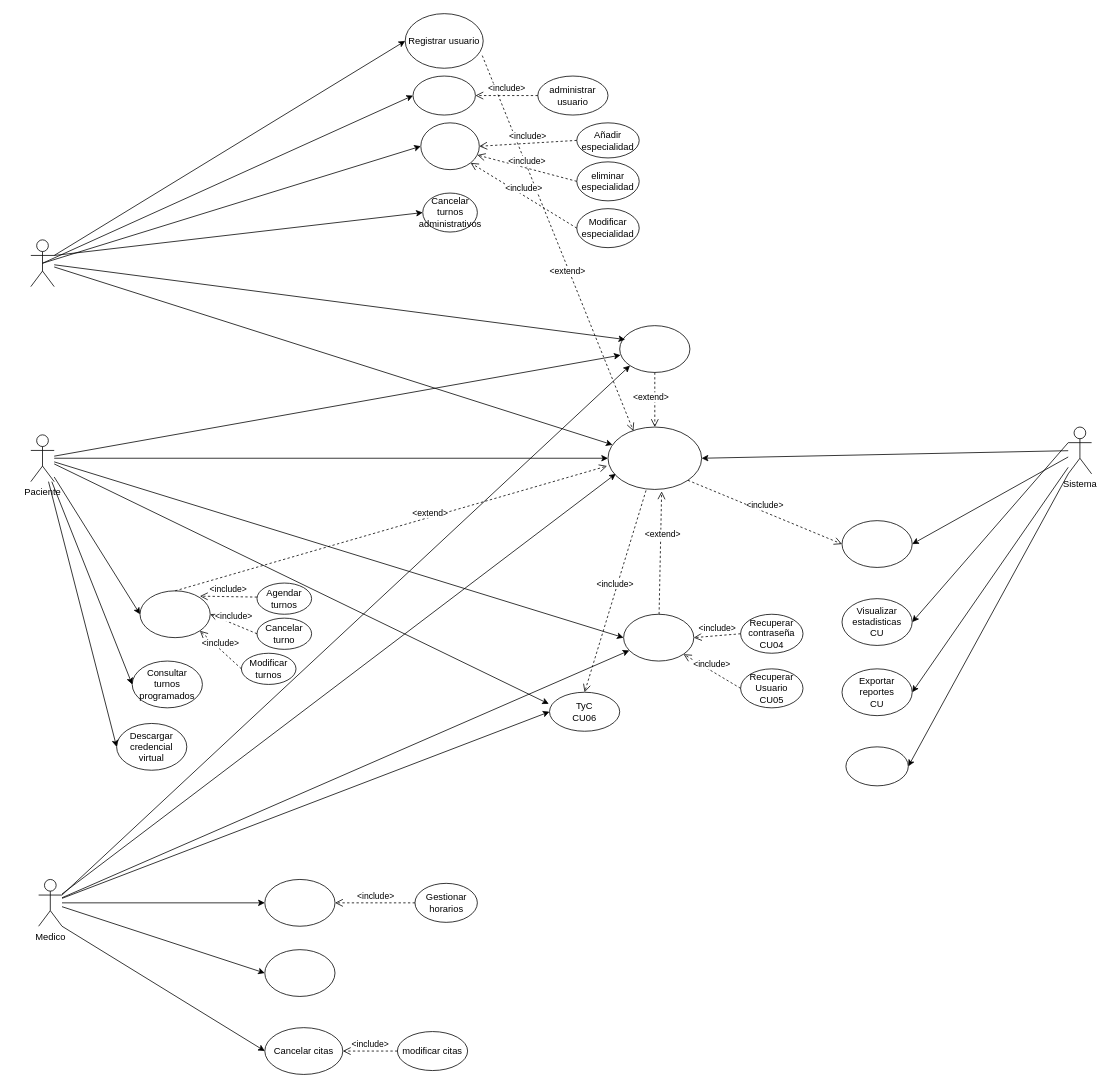
Some shapes in this 1110 by 1088 pixel diagram are drawn without their labels. Here are the shapes that lost their labels. From the top down, the centre of each, then its label:
the point at 443,95: Gestionar usuarios
the point at 449,146: Gestionar especialidades
the point at 42,263: Administrador
the point at 654,348: Cambiar contraseña CU02
the point at 654,457: LOG IN CU01
the point at 876,543: Verificar usuarios CU
the point at 174,614: Opciones de turnos
the point at 658,637: Opcion de recuperacion contraseña CU03
the point at 876,766: Enviar notificaciobnes
the point at 299,902: Consultar agenda diaria
the point at 299,972: Visualizar datos paciente
